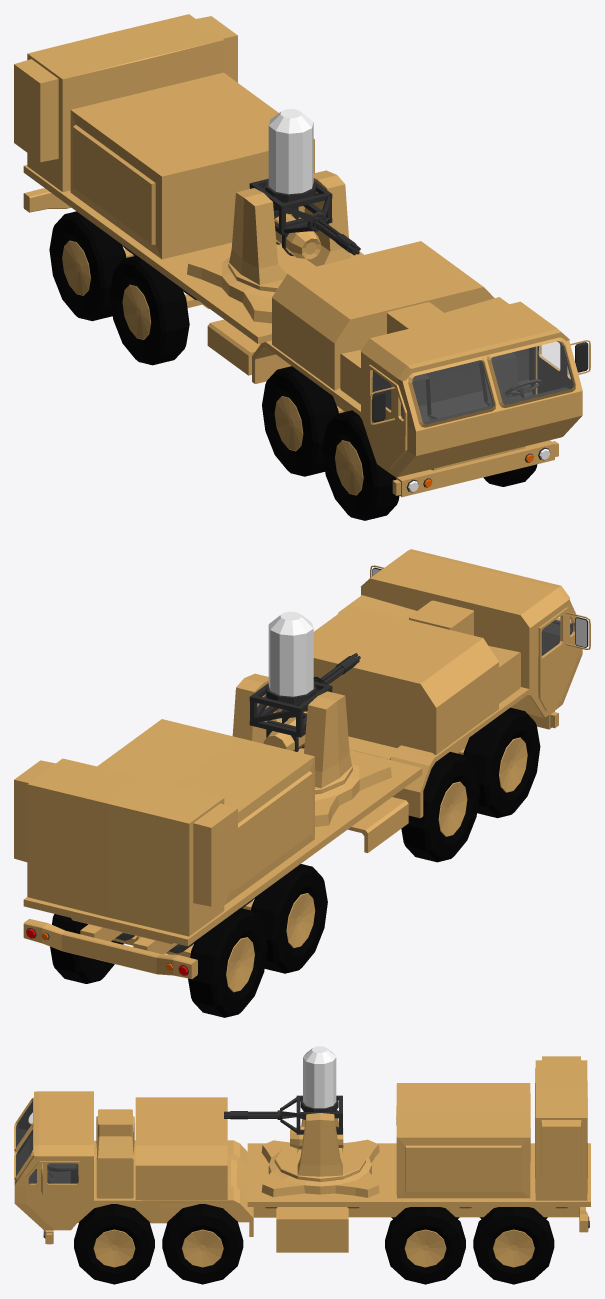
3 renders of one model, top to bottom at view 1: azimuth 30°, elevation 25°; view 2: azimuth 150°, elevation 25°; view 3: azimuth 270°, elevation 25°, orthographic. The views are drawn at different scales.
Visible parts, largest first — view 1: Plane.010, Cube.004, Cube.005, Plane.012, Cylinder.026, Cylinder.020, Plane.013, Cylinder.019, Cylinder.021, Cylinder.022, Plane.011, Plane.014 (+1 smaller); view 2: Plane.010, Cube.004, Cube.005, Cylinder.021, Cylinder.022, Cylinder.020, Cylinder.019, Cylinder.026, Plane.011, Cylinder.025; view 3: Plane.010, Cube.004, Cylinder.023, Cylinder.018, Cylinder.025, Cylinder.024, Cylinder.026, Cube.005, Plane.014, Plane.013, Plane.012.
Boxes of the visible parts, bbox=[...] form: Plane.010: bbox=[14, 14, 582, 497]; Cube.004: bbox=[124, 241, 508, 413]; Cube.005: bbox=[249, 109, 360, 259]; Plane.012: bbox=[413, 342, 573, 423]; Cylinder.026: bbox=[228, 170, 351, 291]; Cylinder.020: bbox=[109, 255, 189, 365]; Plane.013: bbox=[372, 341, 573, 424]; Cylinder.019: bbox=[262, 366, 338, 476]; Cylinder.021: bbox=[49, 211, 126, 321]; Cylinder.022: bbox=[322, 410, 399, 520]; Plane.011: bbox=[368, 364, 407, 468]; Plane.014: bbox=[537, 340, 590, 393]; Plane.010: bbox=[14, 549, 582, 978]; Cube.004: bbox=[112, 595, 520, 957]; Cube.005: bbox=[249, 611, 360, 751]; Cylinder.021: bbox=[188, 908, 267, 1017]; Cylinder.022: bbox=[463, 707, 540, 818]; Cylinder.020: bbox=[251, 864, 327, 973]; Cylinder.019: bbox=[401, 752, 479, 862]; Cylinder.026: bbox=[232, 673, 352, 794]; Plane.011: bbox=[538, 607, 590, 710]; Cylinder.025: bbox=[50, 914, 123, 983]; Plane.010: bbox=[14, 1056, 590, 1244]; Cube.004: bbox=[96, 1097, 348, 1252]; Cylinder.023: bbox=[162, 1204, 243, 1284]; Cylinder.018: bbox=[74, 1204, 154, 1284]; Cylinder.025: bbox=[473, 1207, 554, 1284]; Cylinder.024: bbox=[385, 1207, 465, 1284]; Cylinder.026: bbox=[274, 1111, 365, 1181]; Cube.005: bbox=[224, 1046, 343, 1149]; Plane.014: bbox=[26, 1161, 80, 1225]; Plane.013: bbox=[16, 1101, 78, 1183]; Plane.012: bbox=[15, 1100, 32, 1175].
Bounding box in the file's own units: 380 × 464 × 1176.
